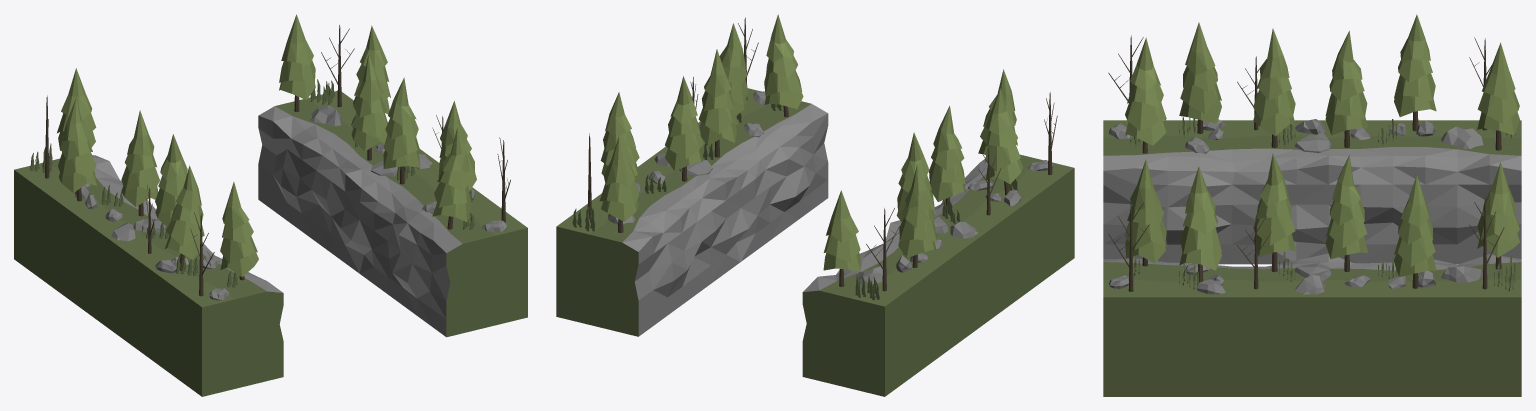
Rendered from Straight_Final.dae.
3 renders of one model, left to right at view 1: azimuth 30°, elevation 25°; view 2: azimuth 150°, elevation 25°; view 3: azimuth 270°, elevation 25°, orthographic. The views are drawn at different scales.
Parts seen in each view (by area): view 1: Straight; view 2: Straight; view 3: Straight.
Boxes of the visible parts, x1,y1,x2,y2 form: Straight: [14, 14, 527, 396]; Straight: [556, 14, 1074, 396]; Straight: [1103, 14, 1521, 396].
Size of the model in its own units: 2.02 by 2 by 1.15.
